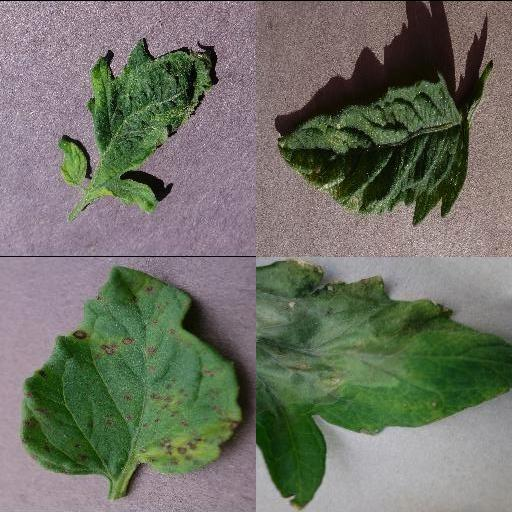Late Blight: (256, 258, 512, 508)
Mosaic Virus: (56, 38, 214, 216)
Septoria: (19, 265, 244, 475)
Spider Mites: (278, 69, 468, 225)
